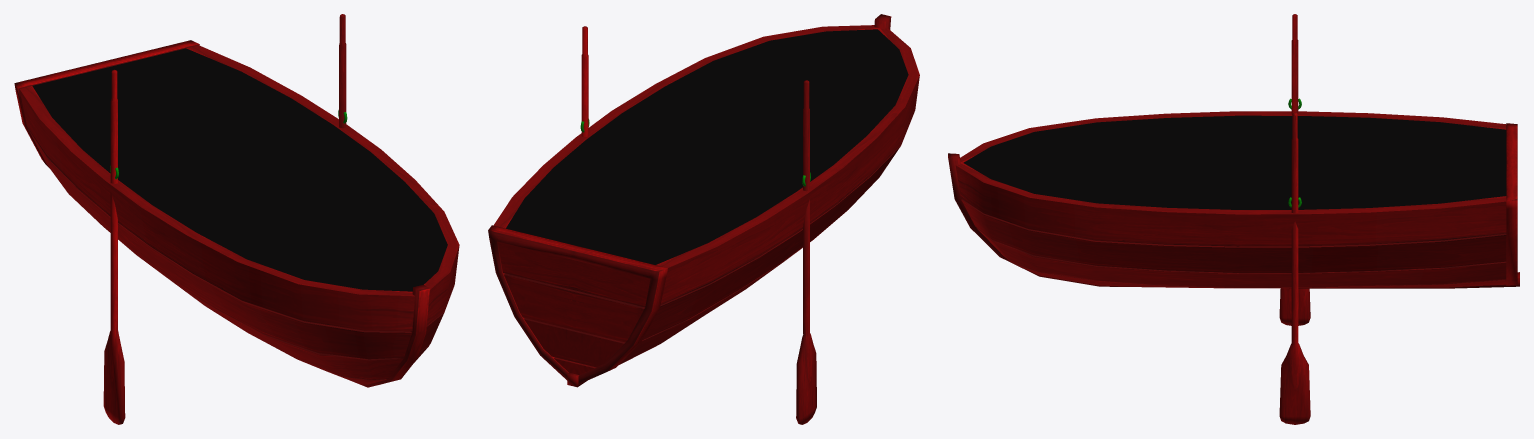
File: Rowboat01.fbx
The picture shows the model from 3 angles, left to right: view 1: azimuth 30°, elevation 25°; view 2: azimuth 150°, elevation 25°; view 3: azimuth 270°, elevation 25°; orthographic projection. The views are drawn at different scales.
Parts seen in each view (by area): view 1: BoatMask, Rowboat01_LOD0, Oar01_LOD0, Oar02_LOD0; view 2: BoatMask, Rowboat01_LOD0, Oar01_LOD0, Oar02_LOD0; view 3: Rowboat01_LOD0, BoatMask, Oar02_LOD0, Oar01_LOD0.
Part boxes in pixels (x1,y1,x2,y2): BoatMask: (32,48,447,291); Rowboat01_LOD0: (14,40,459,387); Oar01_LOD0: (103,69,125,424); Oar02_LOD0: (339,14,346,128); BoatMask: (506,29,908,264); Rowboat01_LOD0: (488,14,919,387); Oar01_LOD0: (796,80,816,424); Oar02_LOD0: (581,26,588,136); Rowboat01_LOD0: (948,98,1519,288); BoatMask: (963,115,1506,209); Oar02_LOD0: (1279,112,1310,424); Oar01_LOD0: (1279,14,1310,325).
Size of what is drawn, in the model's own units: 1.42 by 2 by 3.32.
